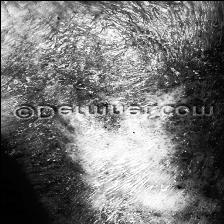Non-Cancerous Skin Condition: (0, 0, 224, 88), (55, 150, 190, 224)
